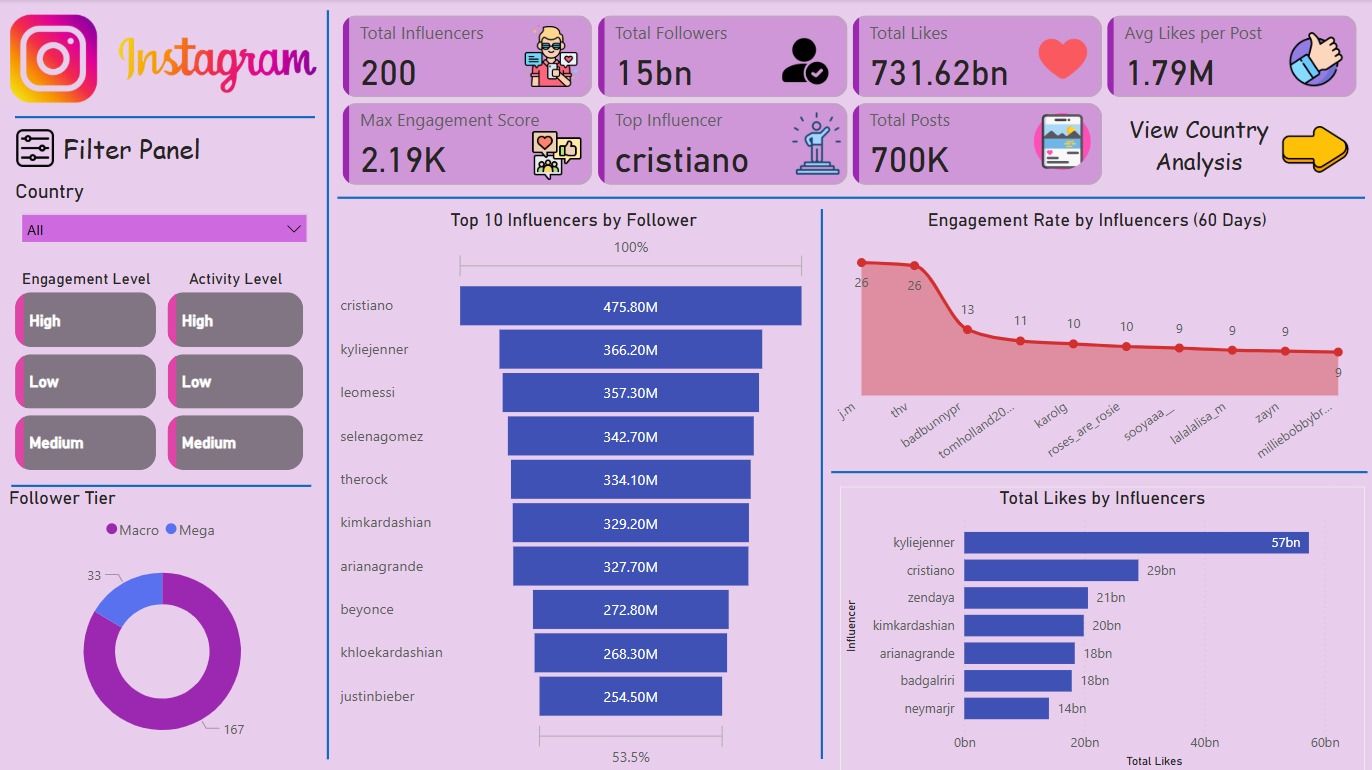

The dashboard page shown, as its layout file describes it:
{"tool":"powerbi","page":{"name":"Dashboard","canvas":[1280,720],"ordinal":0},"visuals":[{"type":"image","box":[4.1,0,295,112.5],"z":0},{"type":"shape","box":[314,174.4,955.8,20.9],"z":2000},{"type":"shape","box":[299.1,11,12.3,697.1],"z":3000},{"type":"shape","box":[14,104.7,279.1,10.5],"z":4000},{"type":"textbox","box":[53.5,118,159.2,43.9],"z":5000},{"type":"image","box":[4.1,116.6,56.3,45.3],"z":6000},{"type":"advancedSlicerVisual","title":"Engagement Level","fields":{"Values":["final_cleaned_instagram_data.engagement_level"]},"box":[9.3,251.2,141.9,191.9],"z":7000},{"type":"advancedSlicerVisual","title":"Activity Level","fields":{"Values":["final_cleaned_instagram_data.activity_level"]},"box":[151.2,251.2,136,191.9],"z":8000},{"type":"donutChart","title":"Follower Tier","fields":{"Y":["CountNonNull(final_cleaned_instagram_data.follower_tier)"],"Category":["final_cleaned_instagram_data.follower_tier"]},"box":[3.5,453.5,295.3,258.1],"z":9000},{"type":"shape","box":[10.5,447.7,279.1,10.5],"z":10000},{"type":"funnel","title":"Top 10 Influencers by Follower","fields":{"Category":["final_cleaned_instagram_data.channel_info"],"Y":["Sum(final_cleaned_instagram_data.followers)"]},"box":[311.6,195.3,444.2,524.4],"z":11000},{"type":"clusteredBarChart","title":"Total Likes by Influencers","fields":{"Category":["final_cleaned_instagram_data.channel_info"],"Y":["final_cleaned_instagram_data.Total Likes"]},"box":[781.4,453.5,488.4,266.3],"z":12000},{"type":"areaChart","title":"Engagement Rate by Influencers (60 Days)","fields":{"Y":["Sum(final_cleaned_instagram_data.60_day_eng_rate)"],"Category":["final_cleaned_instagram_data.channel_info"]},"box":[770.9,195.3,498.8,247.7],"z":13000},{"type":"shape","box":[758.1,195.3,12.8,511.6],"z":14000},{"type":"shape","box":[773.3,433.7,498.8,12.8],"z":15000},{"type":"slicer","title":"Country","fields":{"Values":["final_cleaned_instagram_data.country"]},"box":[9.6,168.8,286.8,68.6],"z":24000},{"type":"cardVisual","fields":{"Data":["CountNonNull(final_cleaned_instagram_data.channel_info)","final_cleaned_instagram_data.Total Followers","final_cleaned_instagram_data.Total Likes","final_cleaned_instagram_data.Avg Likes per Post","final_cleaned_instagram_data.Max Engagement Score","final_cleaned_instagram_data.Top Influencer","Sum(final_cleaned_instagram_data.posts)"]},"box":[314,10.5,955.8,168.6],"z":24001},{"type":"image","box":[1194.2,24.4,60.5,64],"z":24002},{"type":"image","box":[724.4,100,70.9,68.6],"z":24003},{"type":"image","box":[957,96.5,62.8,72.1],"z":24004},{"type":"image","box":[489.5,111.6,57,67.4],"z":24005},{"type":"image","box":[953.5,24.4,69.8,62.8],"z":24006},{"type":"image","box":[479.1,18.6,67.4,68.6],"z":24007},{"type":"image","box":[716.3,29.1,65.1,58.1],"z":24008},{"type":"image","box":[1187.2,103.5,73.3,73.3],"z":24009},{"type":"textbox","box":[1033.7,101.2,162.8,73.3],"z":24010}]}

Visuals, with their boxes in screenshot pixels (x1, y1, x2, y2), scaled from the page's 1280x720 canvas onto the 1372x770 screenshot:
image: region(4, 0, 321, 120)
shape: region(337, 187, 1361, 209)
shape: region(321, 12, 334, 757)
shape: region(15, 112, 314, 123)
textbox: region(57, 126, 228, 173)
image: region(4, 125, 65, 173)
"Engagement Level" advancedSlicerVisual: region(10, 269, 162, 474)
"Activity Level" advancedSlicerVisual: region(162, 269, 308, 474)
"Follower Tier" donutChart: region(4, 485, 320, 761)
shape: region(11, 479, 310, 490)
"Top 10 Influencers by Follower" funnel: region(334, 209, 810, 769)
"Total Likes by Influencers" clusteredBarChart: region(838, 485, 1361, 769)
"Engagement Rate by Influencers (60 Days)" areaChart: region(826, 209, 1361, 474)
shape: region(813, 209, 826, 756)
shape: region(829, 464, 1364, 478)
"Country" slicer: region(10, 181, 318, 254)
cardVisual - CountNonNull(final_cleaned_instagram_data.channel_info) x final_cleaned_instagram_data.Total Followers: region(337, 11, 1361, 192)
image: region(1280, 26, 1345, 95)
image: region(776, 107, 852, 180)
image: region(1026, 103, 1093, 180)
image: region(525, 119, 586, 191)
image: region(1022, 26, 1097, 93)
image: region(514, 20, 586, 93)
image: region(768, 31, 838, 93)
image: region(1273, 111, 1351, 189)
textbox: region(1108, 108, 1282, 187)
